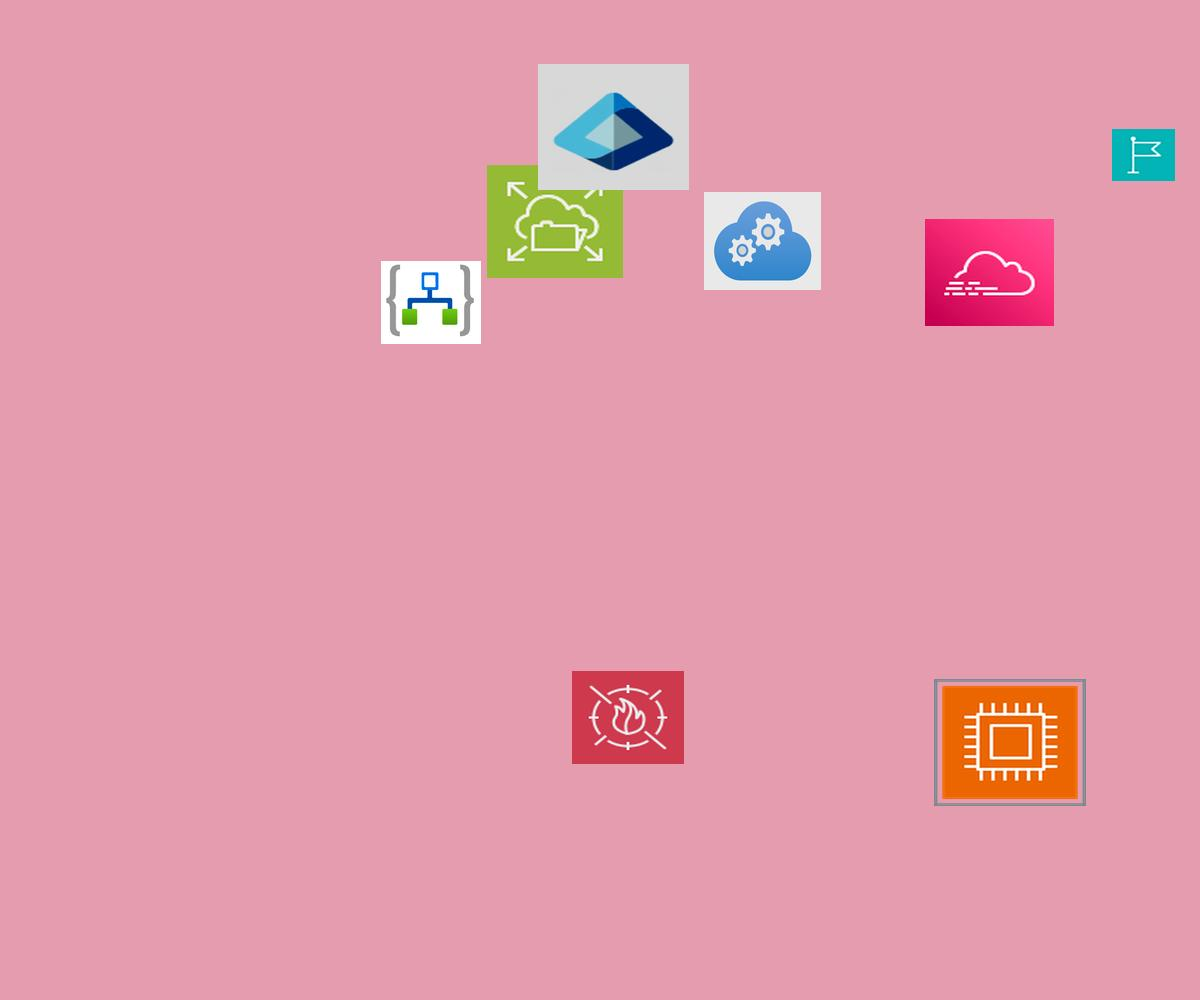AWS-Category_Compute: (934, 679, 1086, 806)
AWS-CloudTrail: (925, 219, 1054, 326)
AWS-EFS: (487, 165, 623, 278)
AWS-Region: (1112, 129, 1175, 181)
AWS-WAF: (572, 671, 684, 764)
Azure_cloud_services: (704, 192, 821, 290)
Azure_integration-204-Logic-Apps: (381, 261, 481, 344)
Azure_microsoft_entra: (538, 64, 689, 190)
